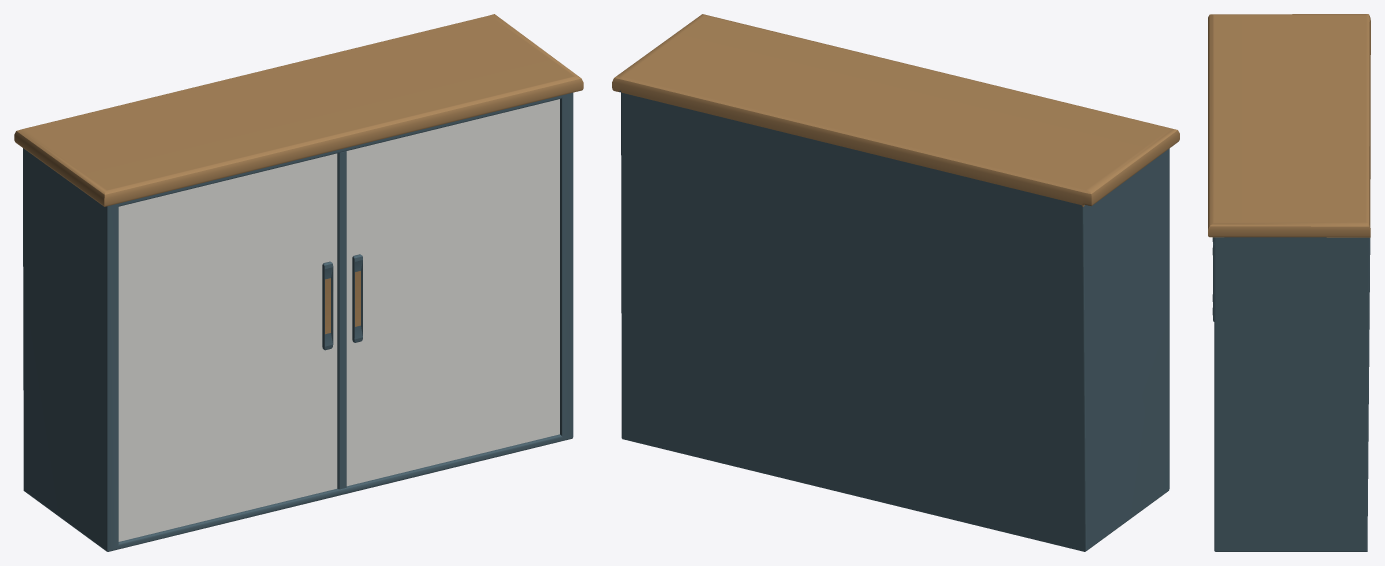
Rendered from cabinet2_v2.fbx.
3 views of the same model, side by side, from view 1: azimuth 30°, elevation 25°; view 2: azimuth 150°, elevation 25°; view 3: azimuth 270°, elevation 25° (orthographic). The views are drawn at different scales.
Visible parts, largest first — view 1: cabinet_3; view 2: cabinet_3; view 3: cabinet_3.
Part boxes in pixels (x1,y1,x2,y2): cabinet_3: (14, 14, 583, 551); cabinet_3: (612, 14, 1179, 551); cabinet_3: (1208, 14, 1370, 551).
Size of the model in its own units: 4.19 by 3.02 by 1.35.
